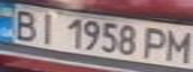1: (60, 16, 84, 50)
5: (100, 20, 121, 55)
8: (118, 23, 142, 57)
9: (78, 18, 103, 52)
B: (6, 7, 42, 42)
I: (33, 10, 63, 45)
M: (163, 28, 193, 64)
P: (139, 25, 172, 61)
